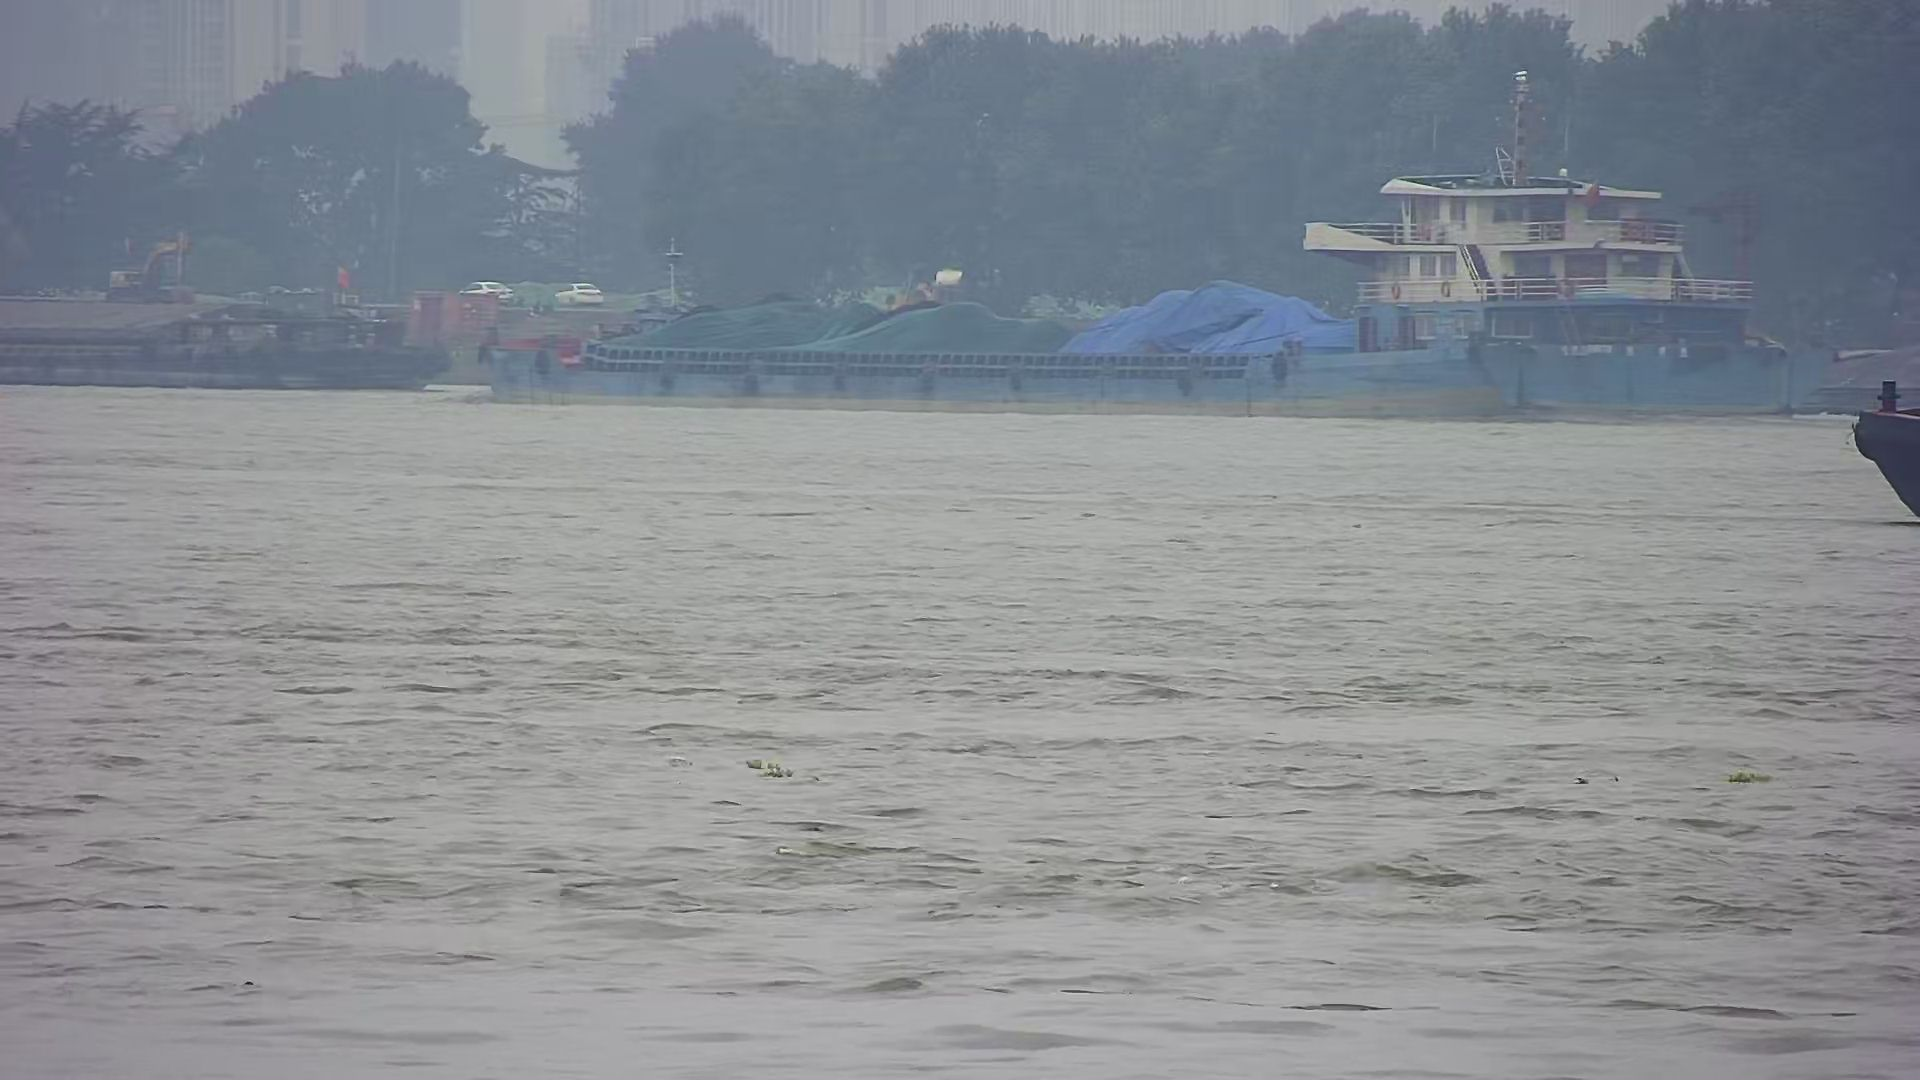ship: (477, 59, 1841, 429), (1, 276, 454, 394)
